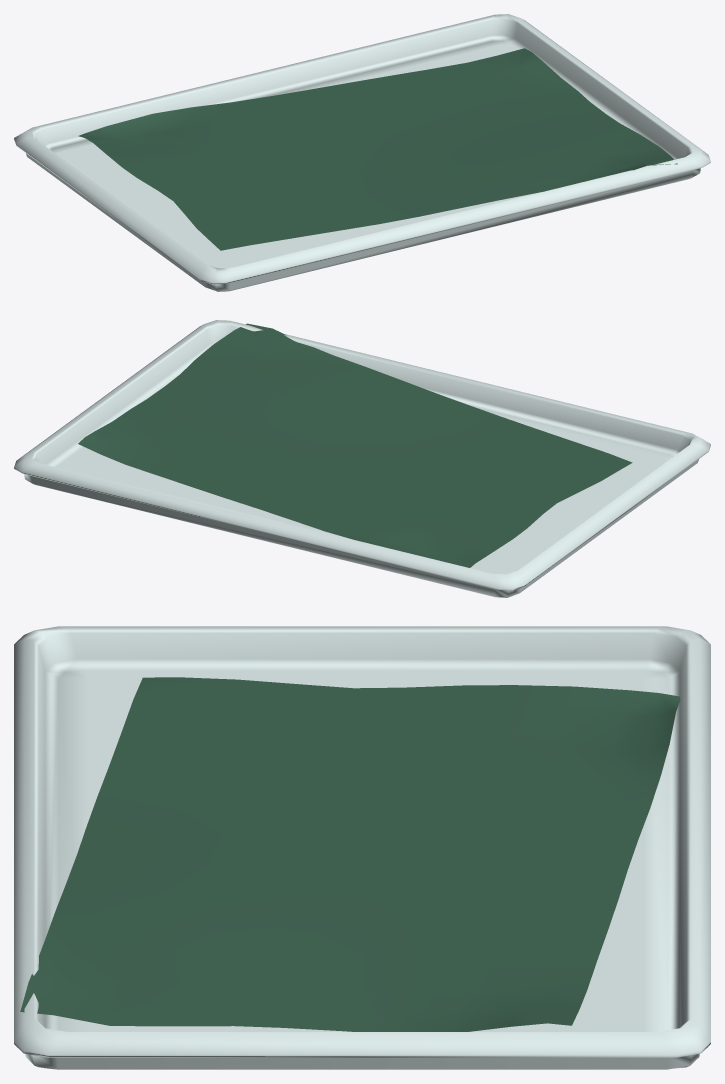
File: TraySteel.fbx
The picture shows the model from 3 angles, top to bottom: view 1: azimuth 30°, elevation 25°; view 2: azimuth 150°, elevation 25°; view 3: azimuth 270°, elevation 25°; orthographic projection. The views are drawn at different scales.
Parts seen in each view (by area): view 1: TraySteel; view 2: TraySteel; view 3: TraySteel.
Part boxes in pixels (x1,y1,x2,y2): TraySteel: [14, 14, 710, 291]; TraySteel: [14, 320, 710, 597]; TraySteel: [14, 626, 710, 1069].
Bounding box in the file's own units: 54.7 × 2.51 × 37.98.
Materials: 1 (1 with a texture image).
